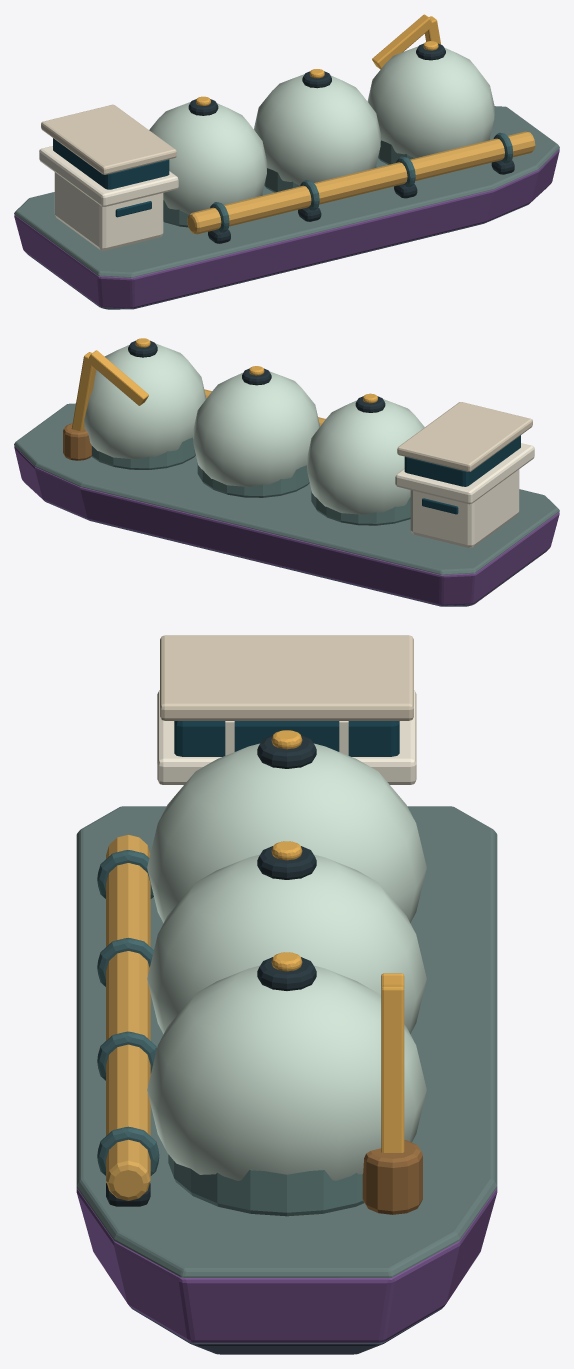
Rendered from bunker-barge.glb.
3 renders of one model, top to bottom at view 1: azimuth 30°, elevation 25°; view 2: azimuth 150°, elevation 25°; view 3: azimuth 270°, elevation 25°, orthographic. The views are drawn at different scales.
Parts seen in each view (by area): view 1: bunker-barge; view 2: bunker-barge; view 3: bunker-barge.
Boxes of the visible parts, x1,y1,x2,y2 form: bunker-barge: (14, 14, 559, 309); bunker-barge: (14, 338, 559, 606); bunker-barge: (76, 635, 497, 1354).
Size of the model in its own units: 3.23 by 1.05 by 1.23.
